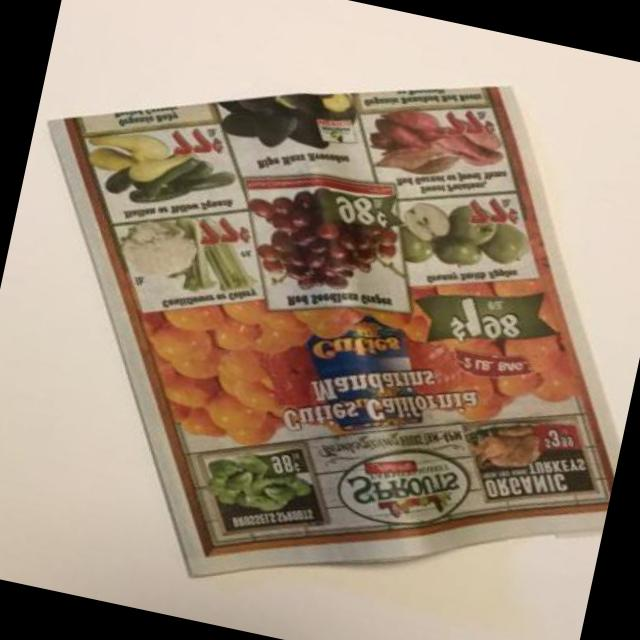cardboard paper: (48, 84, 618, 573)
